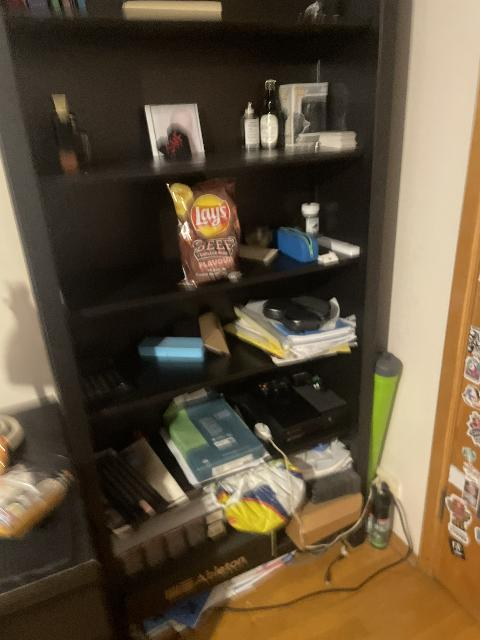Lays Beef Grilled Ribs 125g: (169, 180, 245, 289)
